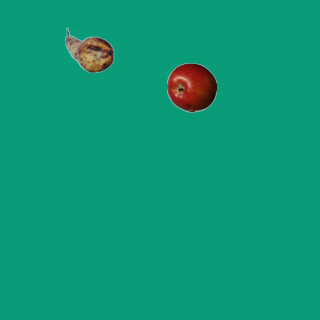Apple Braeburn: (166, 62, 216, 112)
Pear Abate: (64, 25, 114, 75)
